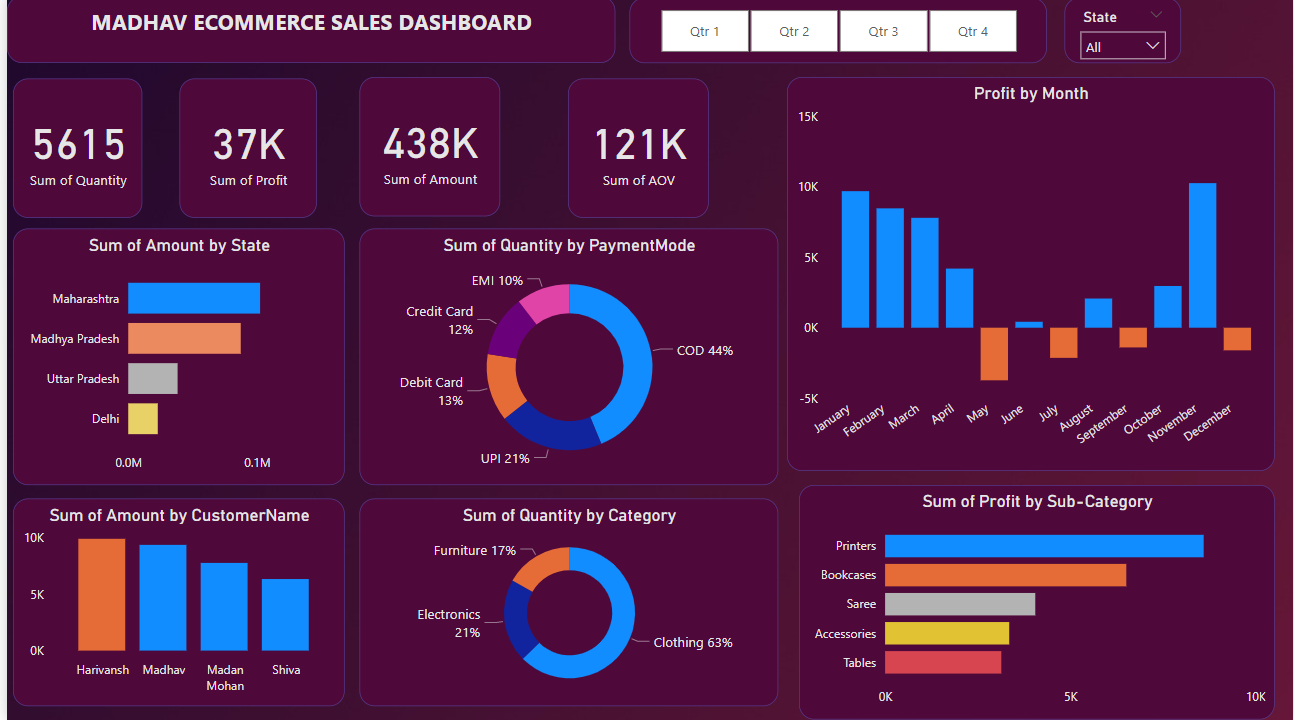

This screenshot's page, from the dashboard's own definition file:
{"tool":"powerbi","page":{"name":"Page 1","canvas":[1280,720],"ordinal":0},"visuals":[{"type":"columnChart","title":"Profit by Month","fields":{"Category":["Orders.Order Date.Variation.Date Hierarchy.Month"],"Y":["Details.Profit"]},"box":[776.7,80,485,391.7],"z":0},{"type":"textbox","box":[0,0,605,66.7],"z":1000},{"type":"clusteredBarChart","fields":{"Category":["Details.Sub-Category"],"Y":["Details.Profit"]},"box":[788.3,486.7,473.3,233.3],"z":2000},{"type":"columnChart","fields":{"Category":["Orders.CustomerName"],"Y":["Details.Amount"]},"box":[6.7,500,330,206.7],"z":3000},{"type":"donutChart","fields":{"Y":["Details.Quantity"],"Category":["Details.PaymentMode"]},"box":[350,231.7,416.7,255],"z":4000},{"type":"card","fields":{"Values":["Details.Amount"]},"box":[350,80,140,138.3],"z":4001},{"type":"card","fields":{"Values":["Details.Profit"]},"box":[171.7,81.7,136.7,138.3],"z":4002},{"type":"card","fields":{"Values":["Details.Quantity"]},"box":[6.7,81.7,128.3,138.3],"z":4003},{"type":"card","fields":{"Values":["Details.AOV"]},"box":[558.3,81.7,140,138.3],"z":4004},{"type":"clusteredBarChart","fields":{"Y":["Details.Amount"],"Category":["Orders.State"]},"box":[6.7,231.7,330,255],"z":4005},{"type":"donutChart","fields":{"Category":["Details.Category"],"Y":["Details.Quantity"]},"box":[350,500,416.7,206.7],"z":4006},{"type":"slicer","fields":{"Values":["Orders.Order Date.Variation.Date Hierarchy.Quarter"]},"box":[619,2,415,65],"z":4007},{"type":"slicer","fields":{"Values":["Orders.State"]},"box":[1052,2,116,65],"z":4008}]}

Visuals, with their boxes in screenshot pixels (x1, y1, x2, y2), scaled from the page's 1280x720 canvas onto the 1294x720 screenshot:
"Profit by Month" columnChart: <box>785,80,1275,472</box>
textbox: <box>0,0,612,67</box>
clusteredBarChart - Details.Sub-Category x Details.Profit: <box>797,487,1275,719</box>
columnChart - Orders.CustomerName x Details.Amount: <box>7,500,340,707</box>
donutChart - Details.Quantity x Details.PaymentMode: <box>354,232,775,487</box>
card - Details.Amount: <box>354,80,495,218</box>
card - Details.Profit: <box>174,82,312,220</box>
card - Details.Quantity: <box>7,82,136,220</box>
card - Details.AOV: <box>564,82,706,220</box>
clusteredBarChart - Details.Amount x Orders.State: <box>7,232,340,487</box>
donutChart - Details.Category x Details.Quantity: <box>354,500,775,707</box>
slicer - Orders.Order Date.Variation.Date Hierarchy.Quarter: <box>626,2,1045,67</box>
slicer - Orders.State: <box>1064,2,1181,67</box>
